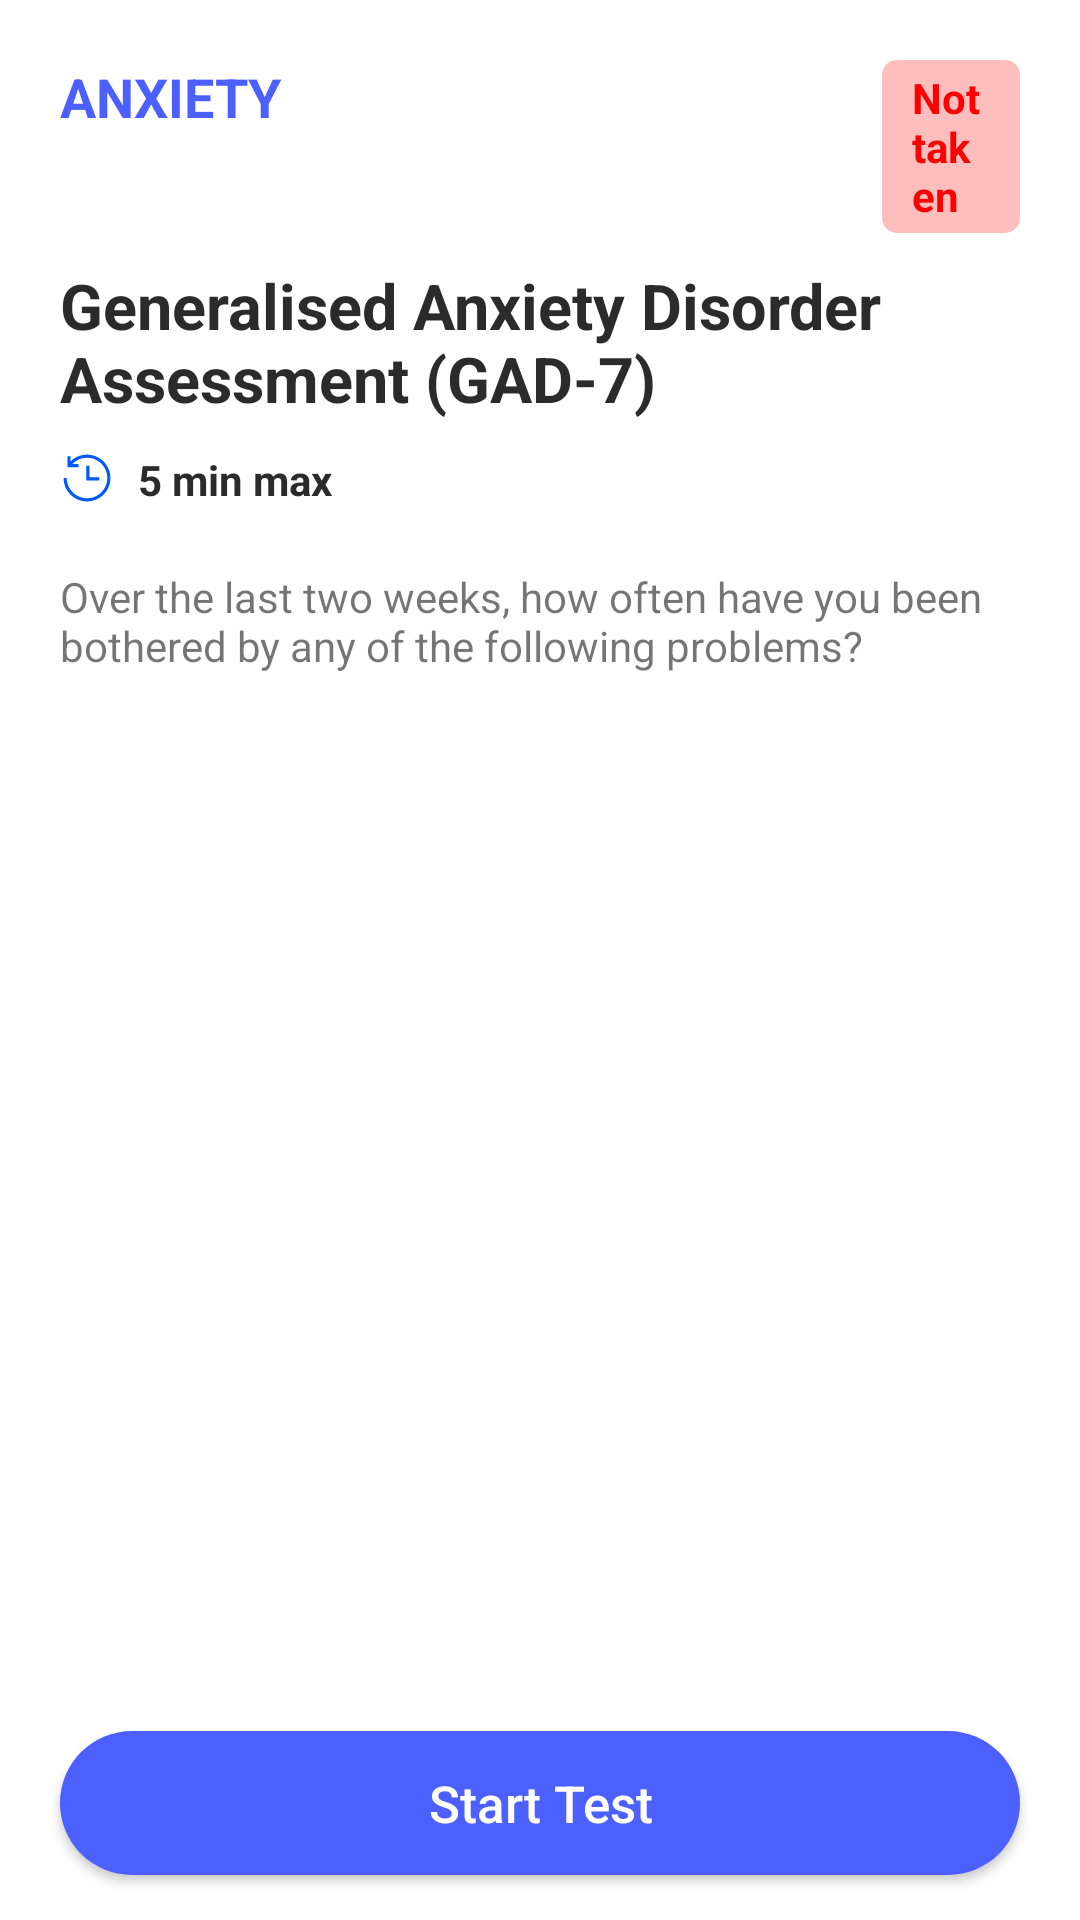

Icon bounding boxes for this 1080×1920 phone screenshot, format (x1, y1, x2, y2):
clock: (63, 454, 111, 502)
